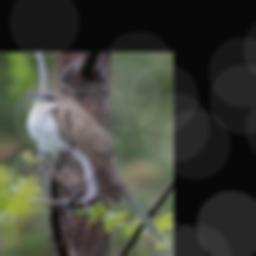Cuckoo: (21, 90, 170, 250)
